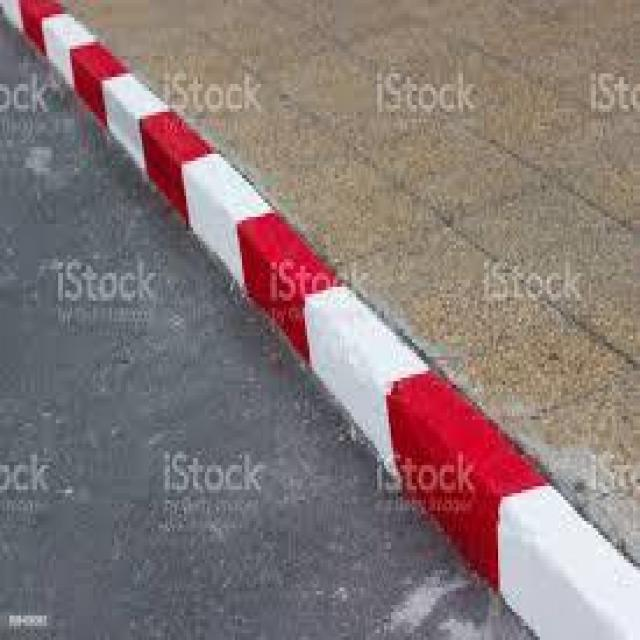curb: (416, 413, 634, 640), (242, 230, 437, 482), (72, 71, 275, 278), (22, 4, 123, 115)
